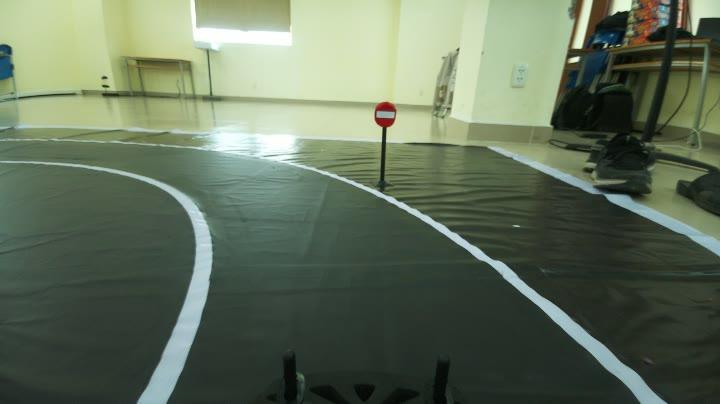no_entry: (367, 98, 402, 130)
